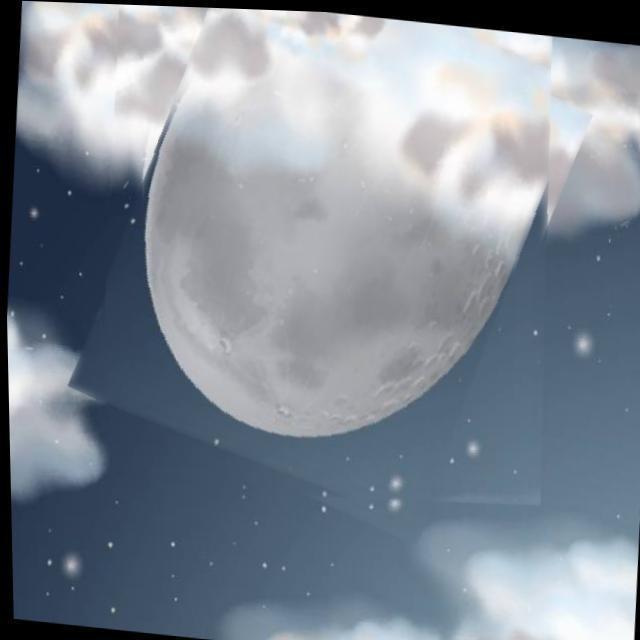moon: (85, 2, 571, 532)
